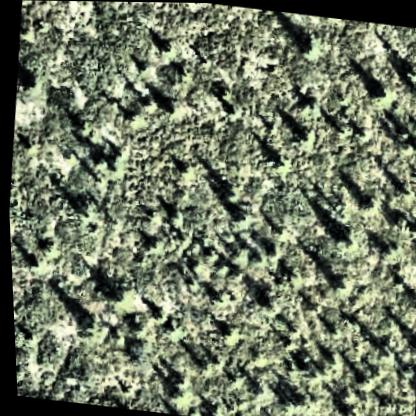tree-top: (103, 283, 133, 312), (276, 387, 306, 416), (72, 310, 100, 340), (169, 151, 196, 181), (161, 382, 190, 409), (289, 122, 316, 149), (375, 236, 402, 263), (365, 81, 393, 107), (15, 70, 41, 97), (326, 227, 353, 253), (355, 192, 380, 218), (327, 270, 352, 296), (247, 379, 272, 404), (296, 36, 321, 60), (158, 94, 182, 119), (294, 93, 318, 118), (225, 242, 250, 266), (153, 36, 178, 59), (225, 206, 248, 230), (216, 321, 240, 344), (348, 368, 372, 391), (392, 178, 416, 201), (253, 292, 275, 317), (267, 151, 289, 173), (122, 106, 143, 127), (164, 204, 184, 226), (23, 254, 44, 272), (17, 24, 34, 43), (408, 77, 416, 101)
